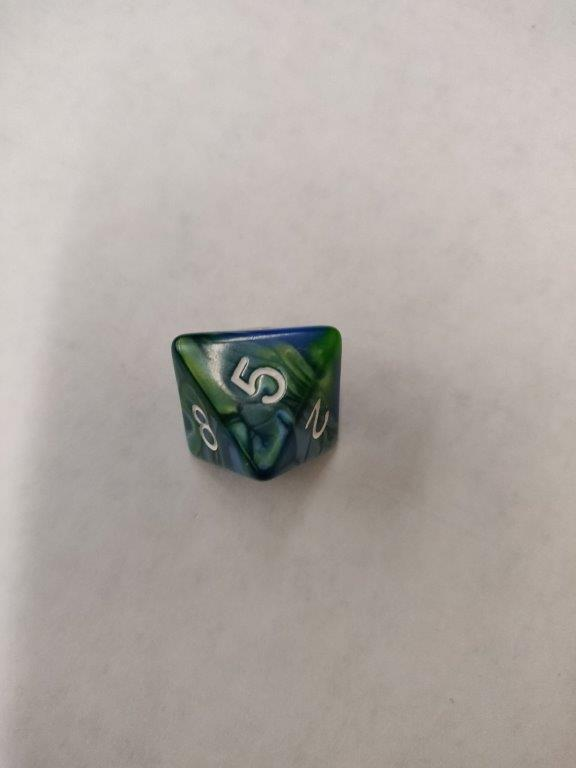d8-5: (168, 318, 344, 467)
